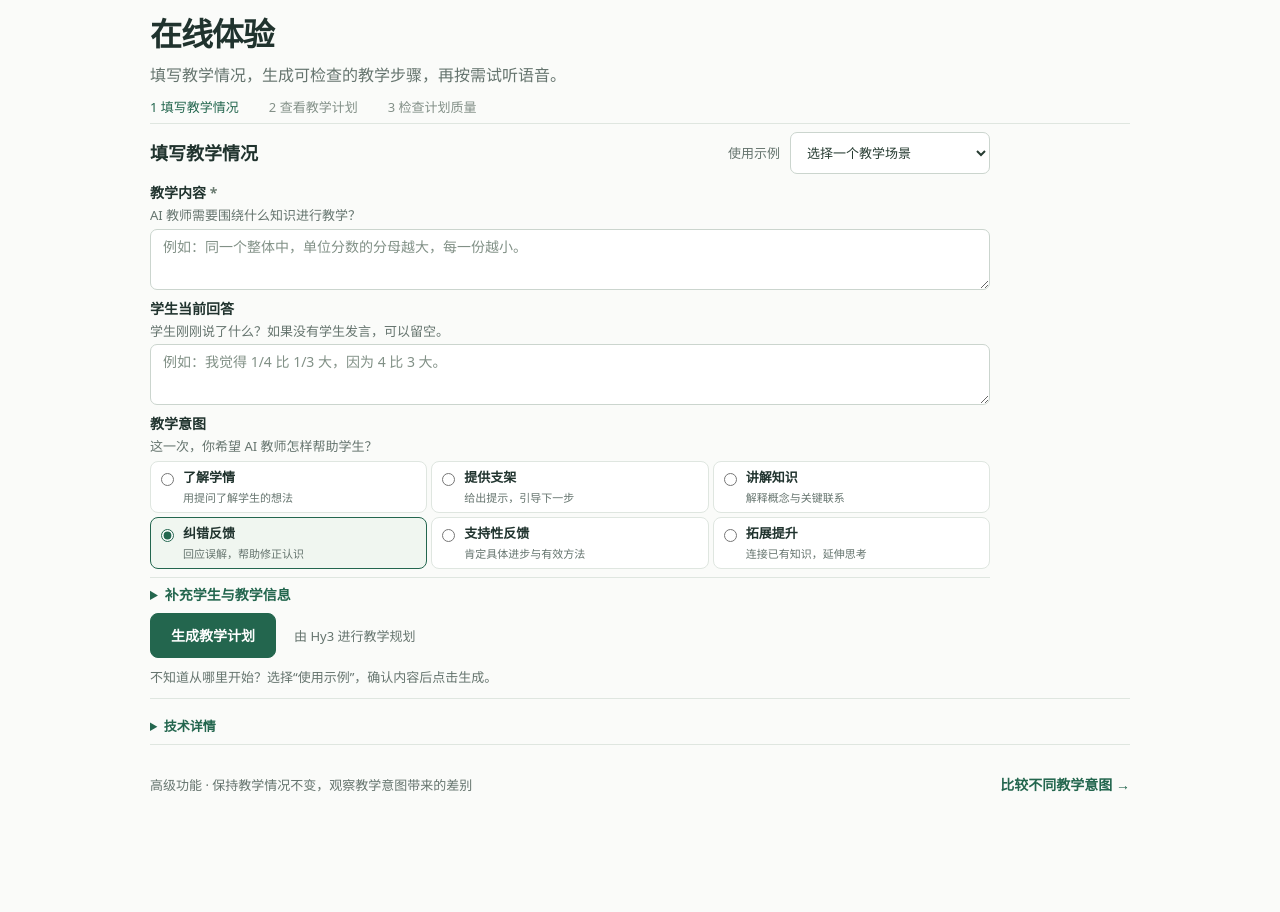
Scenario: shows actionable Chinese generation errors and hides the raw exception
This screenshot has width=1280, height=912.
Select "分数大小纠错" in the dropdown labelled "使用示例": (890, 154) [790,132,990,174]
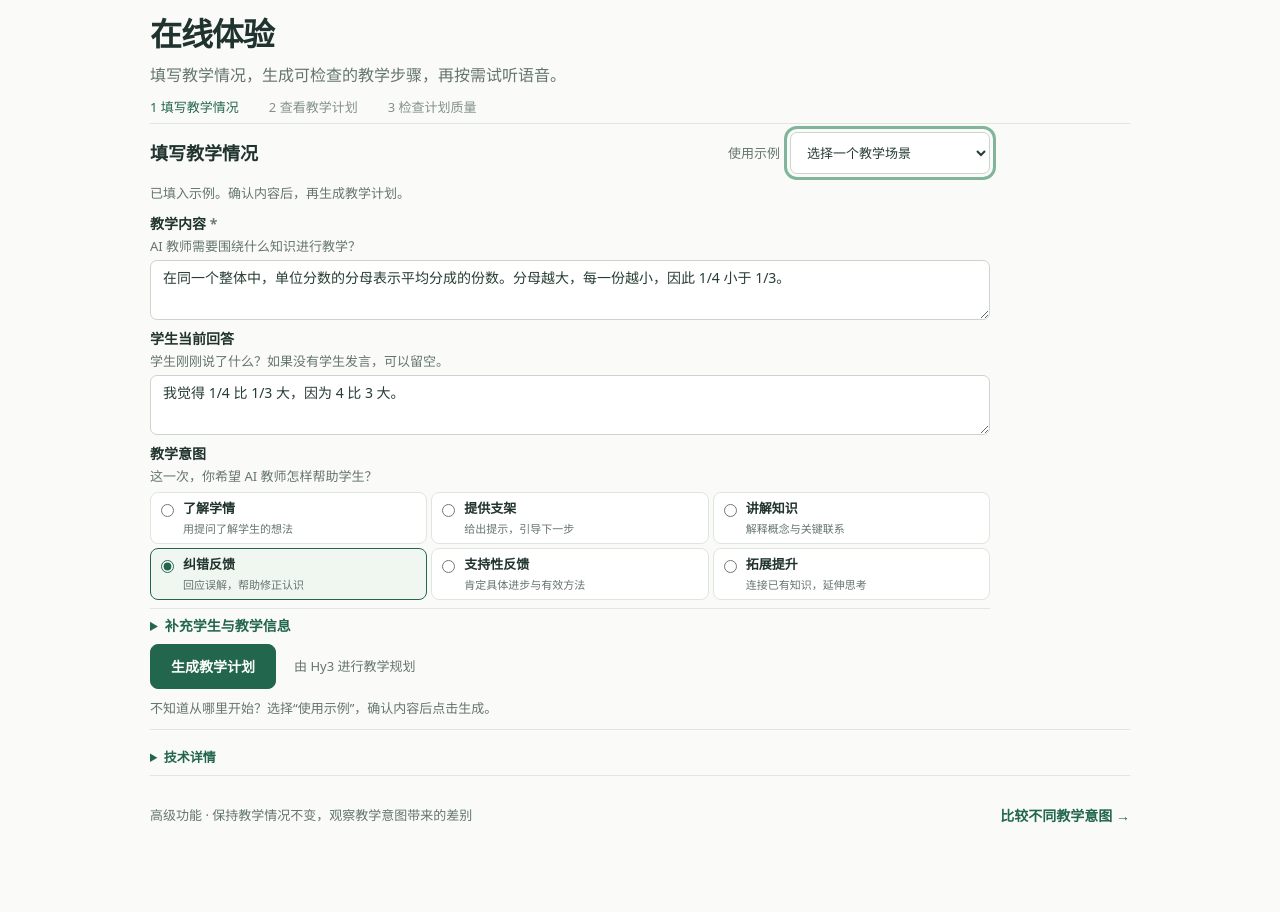
Click the button "生成教学计划": (213, 667) [150,644,276,689]
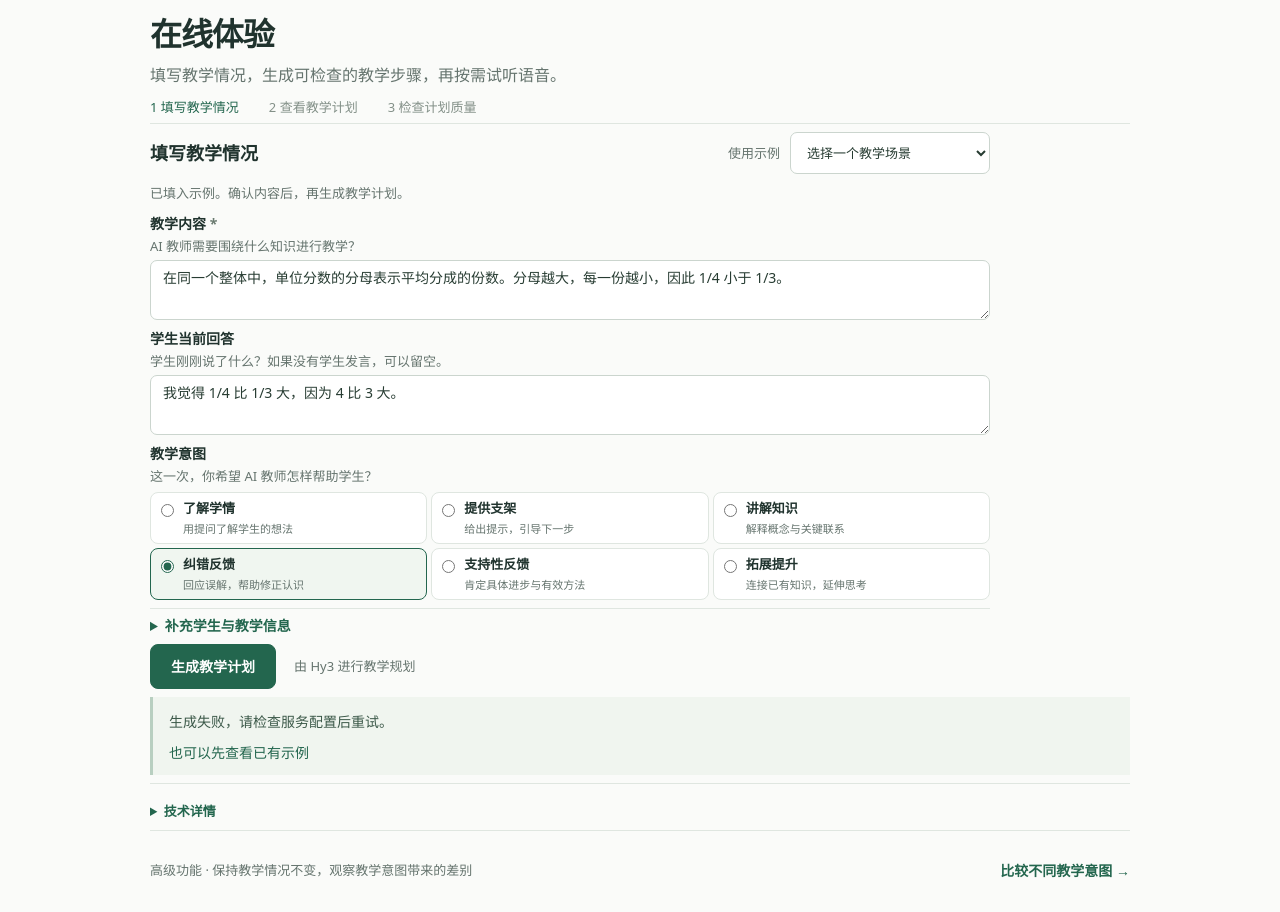
Expected: the message "生成失败，请检查服务配置后重试。 也可以先查看已有示例" is shown, [150,697,1130,775]
